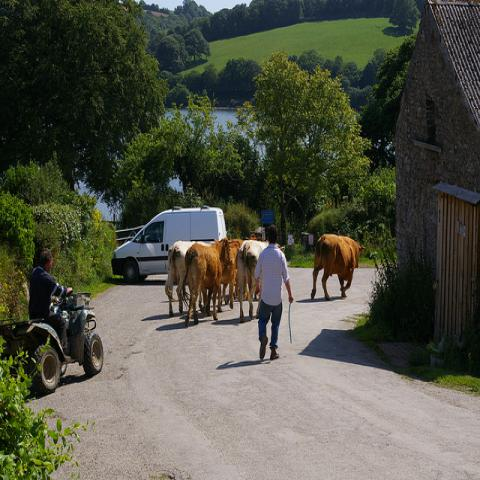truck: (111, 205, 227, 284)
